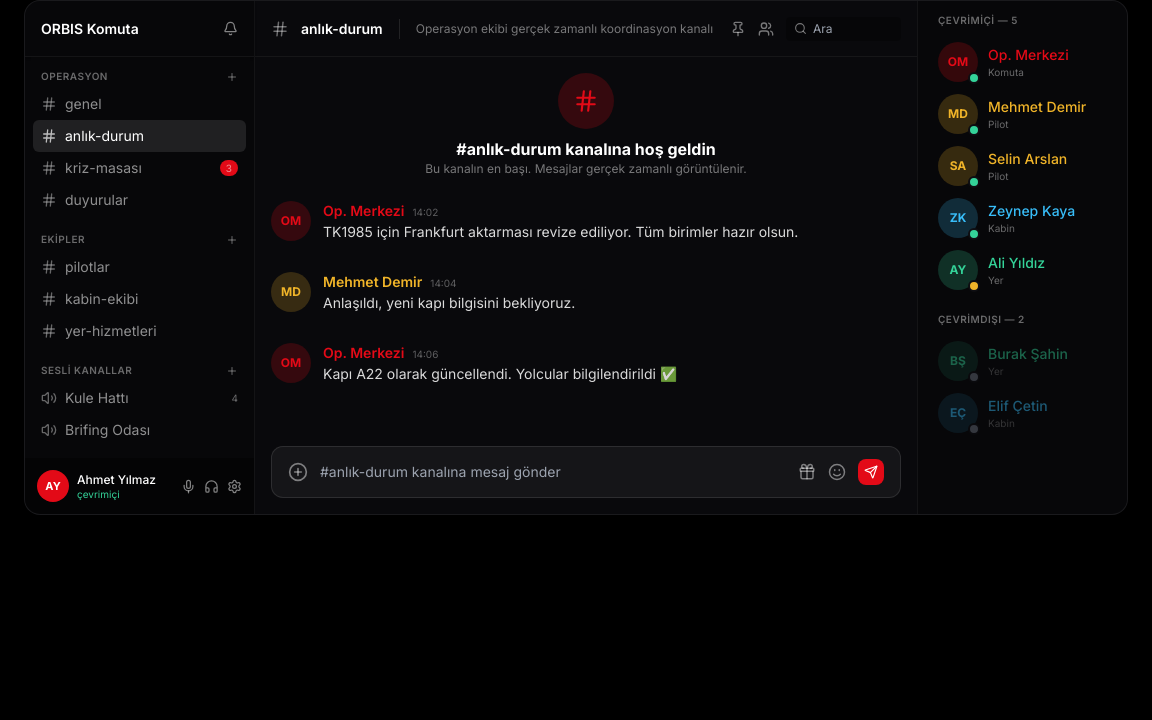
it: İletişim Merkezi › mesaj yazip gonderince kanalda gorunur ve input temizlenir
Type "Test mesaji 123" into the field with placeholder "#anlık-durum kanalına mesaj gönder" at x=553, y=472, box [320,462,786,482]
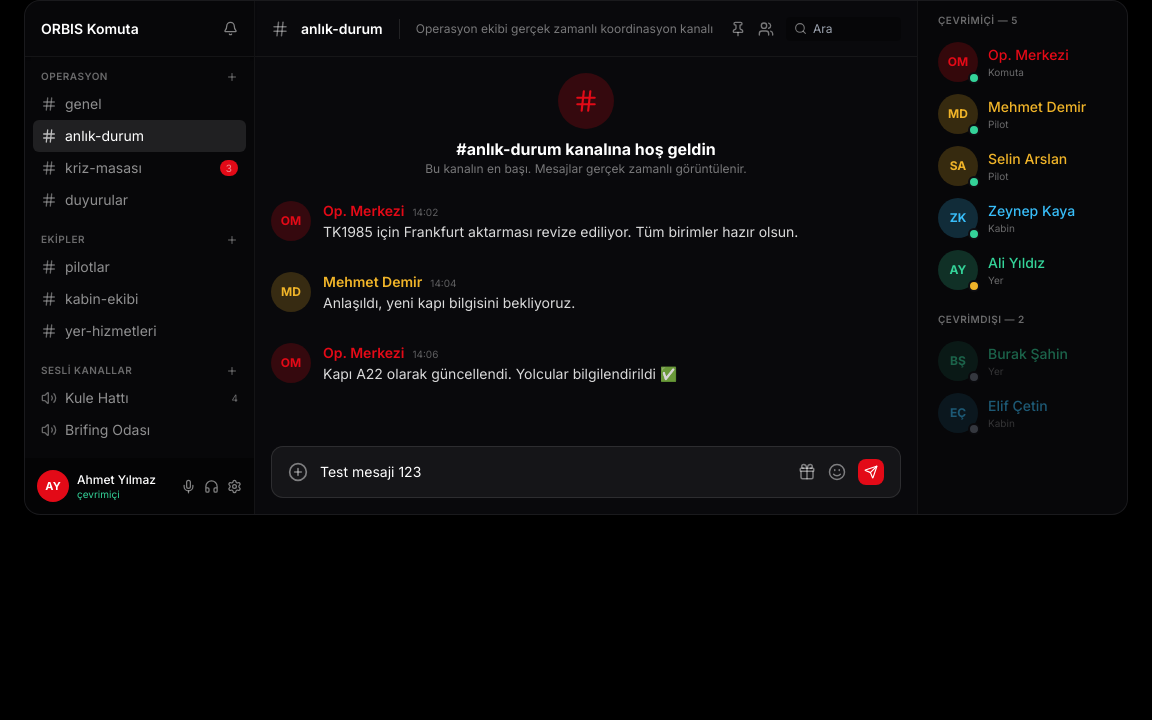
Click the button named "Mesaj gönder" at x=871, y=472, box [858,459,884,485]
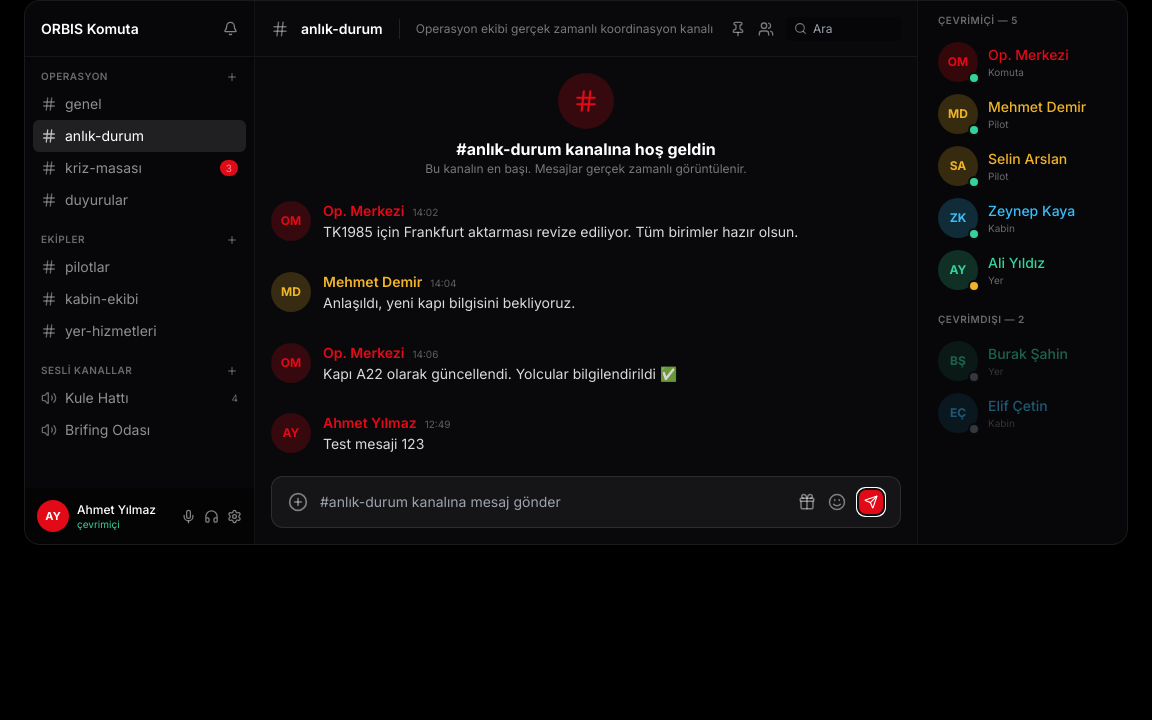
Result: the text "Test mesaji 123" is shown at [323,435,424,452]
Result: the field with placeholder "#anlık-durum kanalına mesaj gönder" is empty at [320,492,786,512]
